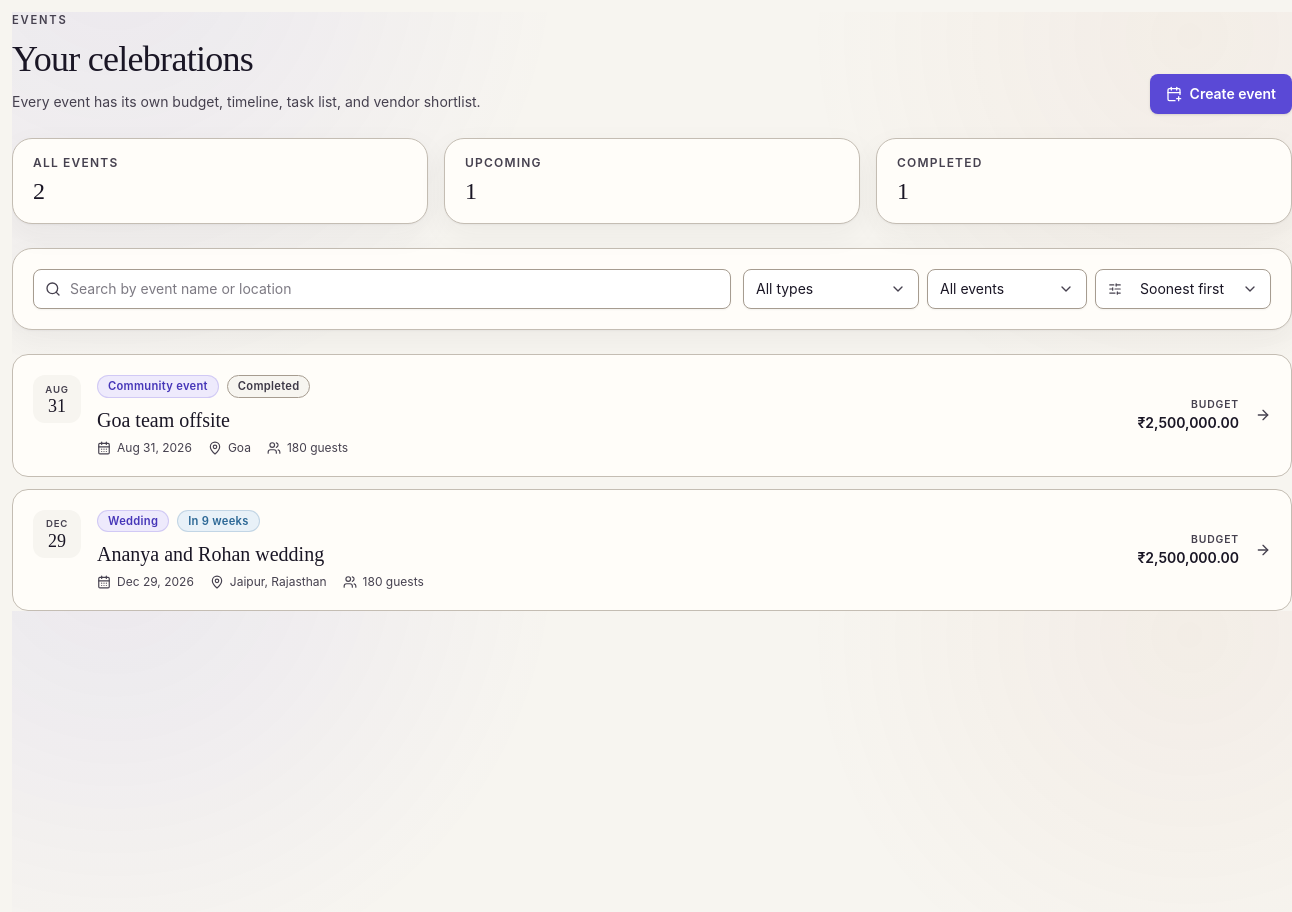
events list page › renders events and filters them by search
This screenshot has width=1292, height=912.
Expected: the heading "Ananya and Rohan wedding" is shown, [97,543,324,565]
Expected: the heading "Goa team offsite" is shown, [97,409,230,431]
Type "goa" into the field named "Search events". click: (382, 289)
box: [33,269,731,309]
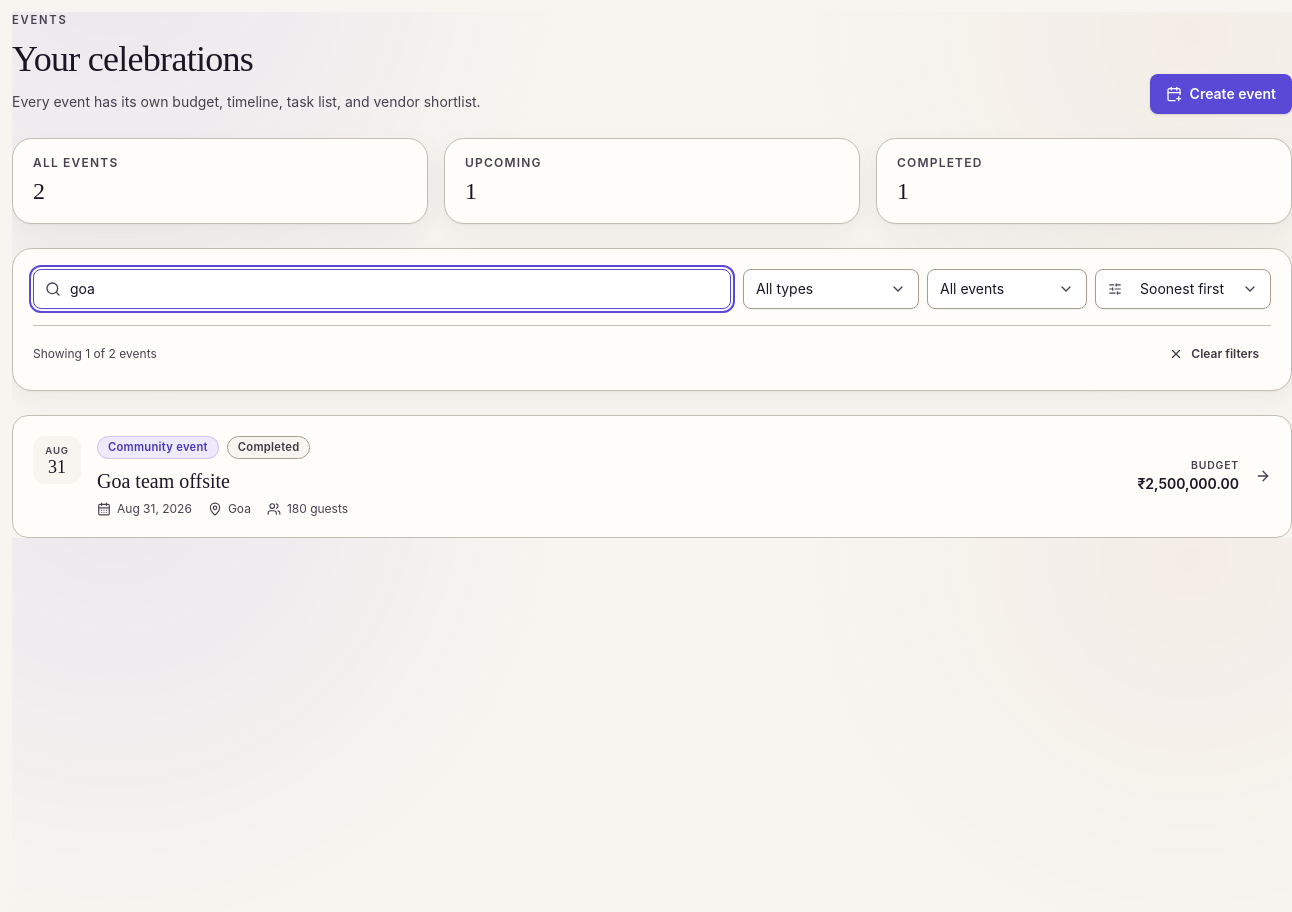
Expected: the heading "Goa team offsite" is shown, [97,470,230,492]
Expected: the link "Ananya and Rohan wedding" is gone
Expected: the text "Showing 1 of 2 events" is shown, [33,346,157,362]
